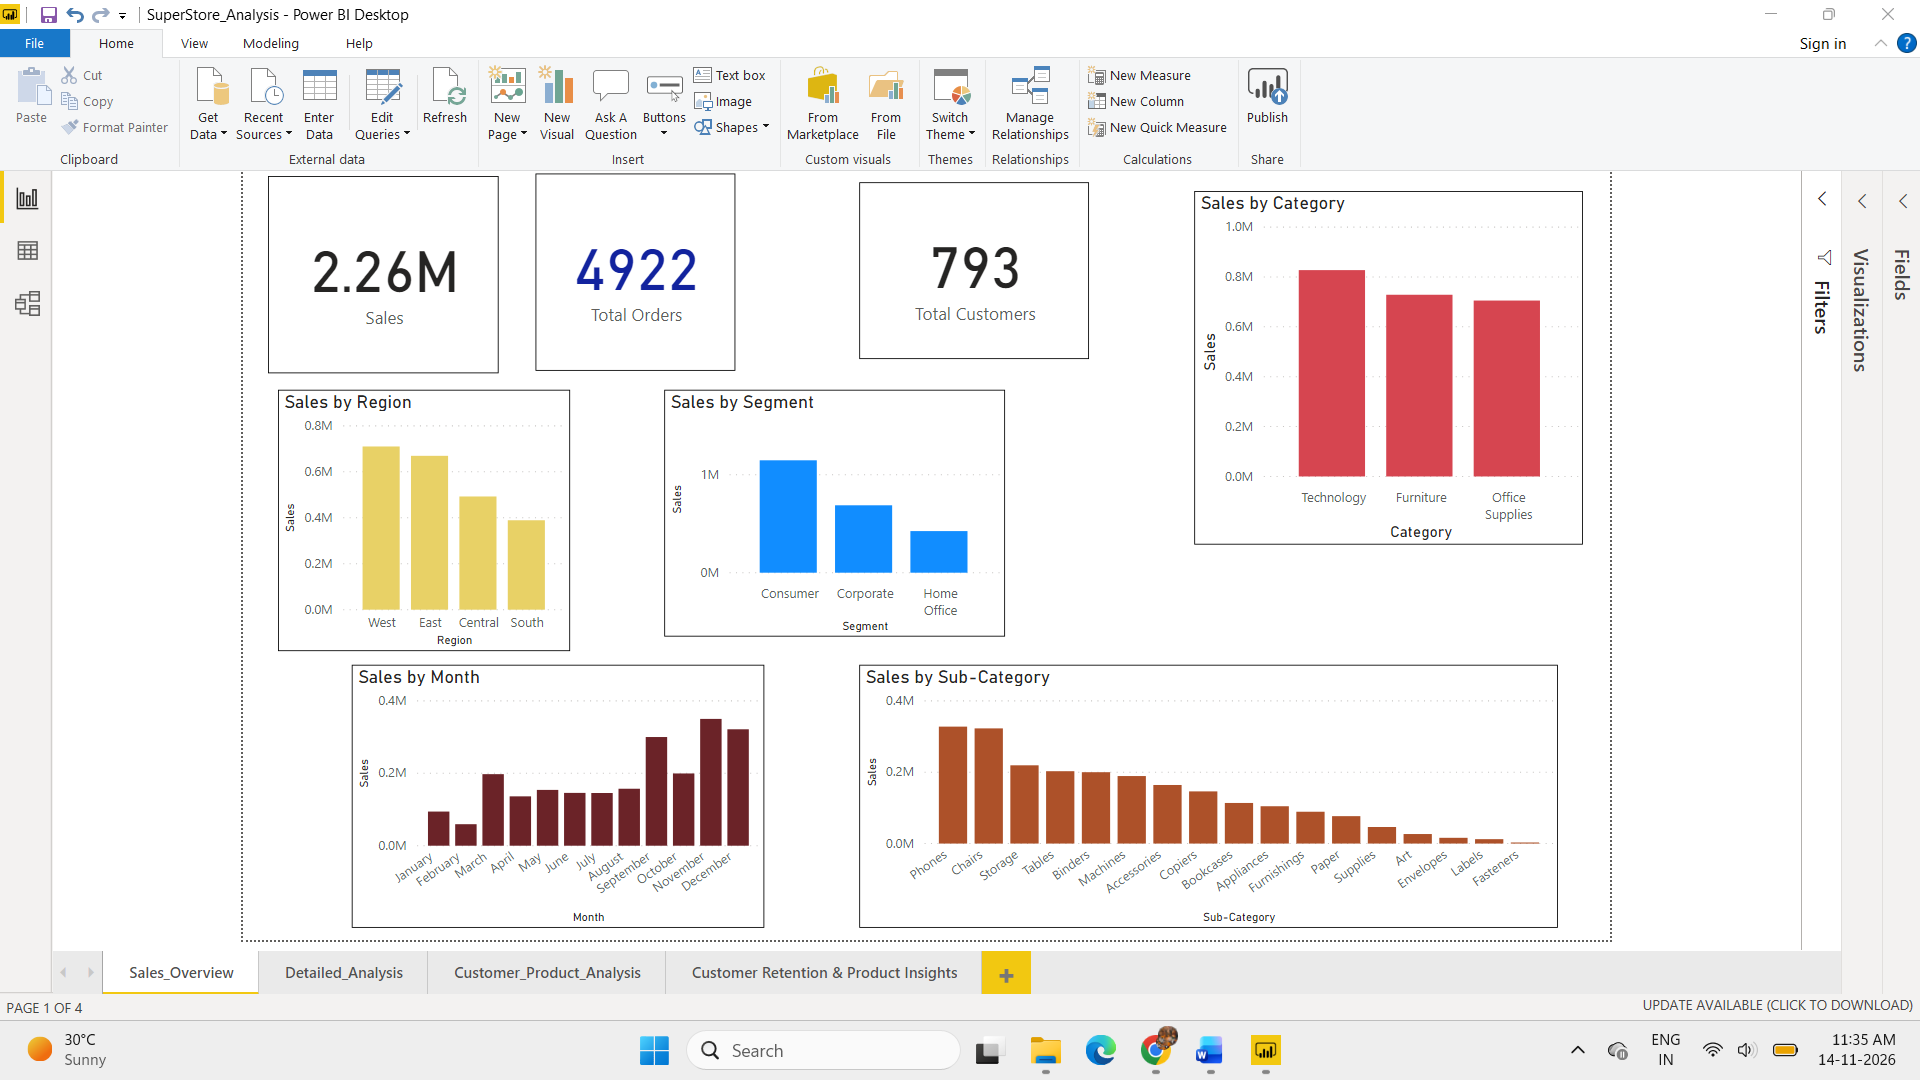

This screenshot's page, from the dashboard's own definition file:
{"tool":"powerbi","page":{"name":"Sales_Overview","canvas":[1280,720],"ordinal":0},"visuals":[{"type":"card","fields":{"Values":["Sum(superstore.Sales)"]},"box":[23.3,4.1,216.3,184.8],"z":0},{"type":"card","fields":{"Values":["superstore.Total Orders"]},"box":[273.8,2.7,187.6,184.8],"z":1000},{"type":"card","fields":{"Values":["superstore.Total Customers"]},"box":[577.7,11,214.9,165.6],"z":2000},{"type":"clusteredColumnChart","fields":{"Category":["superstore.Category"],"Y":["Sum(superstore.Sales)"]},"box":[890.9,18.7,364.1,331.3],"z":3000},{"type":"clusteredColumnChart","fields":{"Y":["Sum(superstore.Sales)"],"Category":["superstore.Region"]},"box":[32.9,205.3,273.8,245],"z":4000},{"type":"clusteredColumnChart","fields":{"Y":["Sum(superstore.Sales)"],"Category":["superstore.Segment"]},"box":[394.3,205.3,319,231.4],"z":5000},{"type":"clusteredColumnChart","fields":{"Category":["superstore.Order Date.Variation.Date Hierarchy.Year","superstore.Order Date.Variation.Date Hierarchy.Month"],"Y":["Sum(superstore.Sales)"]},"box":[101.3,462.7,386.1,246.4],"z":6000},{"type":"clusteredColumnChart","fields":{"Y":["Sum(superstore.Sales)"],"Category":["superstore.Sub-Category"]},"box":[577.7,462.7,654.4,246.4],"z":7000}]}

Visuals, with their boxes on the page's 1280x720 design canvas (x1, y1, x2, y2). These are canvas units, not pixel positions in the 1920x1080 screenshot, which may show the page scaled, cropped or inside an application window:
card - Sum(superstore.Sales): <region>23, 4, 240, 189</region>
card - superstore.Total Orders: <region>274, 3, 461, 188</region>
card - superstore.Total Customers: <region>578, 11, 793, 177</region>
clusteredColumnChart - superstore.Category x Sum(superstore.Sales): <region>891, 19, 1255, 350</region>
clusteredColumnChart - Sum(superstore.Sales) x superstore.Region: <region>33, 205, 307, 450</region>
clusteredColumnChart - Sum(superstore.Sales) x superstore.Segment: <region>394, 205, 713, 437</region>
clusteredColumnChart - superstore.Order Date.Variation.Date Hierarchy.Year x superstore.Order Date.Variation.Date Hierarchy.Month: <region>101, 463, 487, 709</region>
clusteredColumnChart - Sum(superstore.Sales) x superstore.Sub-Category: <region>578, 463, 1232, 709</region>
